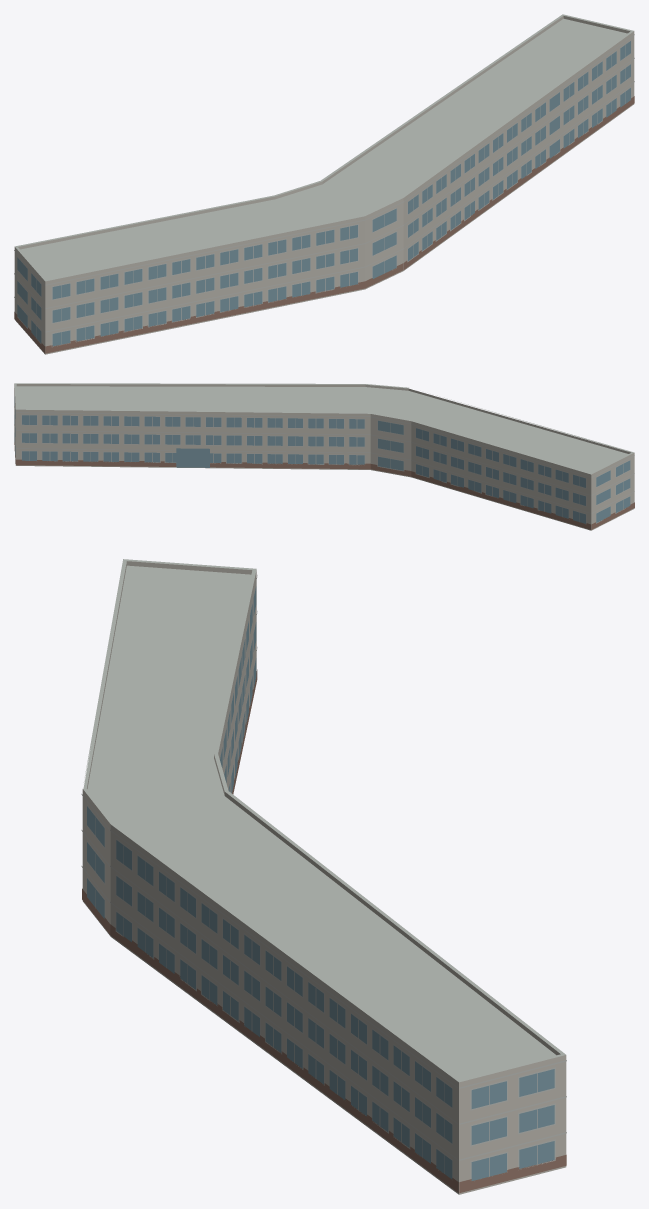
Rendered from public-b0564290-6bcf-48a0-ab5a-bdb3466ea125.glb.
3 renders of one model, top to bottom at view 1: azimuth 30°, elevation 25°; view 2: azimuth 150°, elevation 25°; view 3: azimuth 270°, elevation 25°, orthographic. The views are drawn at different scales.
Parts seen in each view (by area): view 1: public-b0564290-6bcf-48a0-ab5a-bdb3466ea125; view 2: public-b0564290-6bcf-48a0-ab5a-bdb3466ea125; view 3: public-b0564290-6bcf-48a0-ab5a-bdb3466ea125.
Boxes of the visible parts, <box> form: public-b0564290-6bcf-48a0-ab5a-bdb3466ea125: <box>14,14,634,354</box>; public-b0564290-6bcf-48a0-ab5a-bdb3466ea125: <box>14,383,634,530</box>; public-b0564290-6bcf-48a0-ab5a-bdb3466ea125: <box>81,559,566,1194</box>.
Size of the model in its own units: 91.43 by 9.15 by 35.8.
